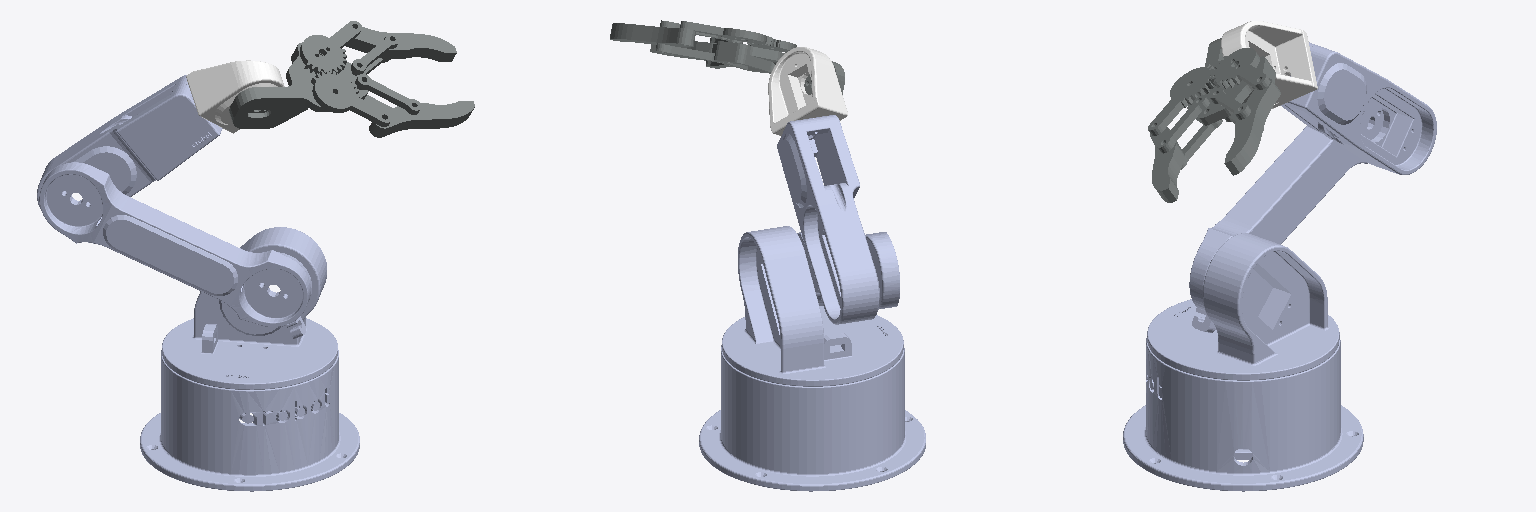
URDF robot description (Arobot_urdf):
<?xml version="1.0" encoding="utf-8"?>
<!-- This URDF was automatically created by SolidWorks to URDF Exporter! Originally created by [author] ([email redacted]) 
     Commit Version: 1.6.0-4-g7f85cfe  Build Version: 1.6.7995.38578
     For more information, please see http://wiki.ros.org/sw_urdf_exporter -->
<robot
  name="Arobot_urdf">
  <link
    name="base_link">
    <inertial>
      <origin
        xyz="-0.0199023809554258 -0.0173034470198268 -0.0157828643241678"
        rpy="0 0 0" />
      <mass
        value="0.0931216324961421" />
      <inertia
        ixx="0.000124567788543552"
        ixy="-4.16363683065978E-08"
        ixz="1.57671233689442E-06"
        iyy="0.000130557362004676"
        iyz="-5.17488311121036E-07"
        izz="0.000200546691587433" />
    </inertial>
    <visual>
      <origin
        xyz="0 0 0"
        rpy="0 0 0" />
      <geometry>
        <mesh
          filename="package://Arobot_urdf/meshes/base_link.STL" />
      </geometry>
      <material
        name="">
        <color
          rgba="0.792156862745098 0.819607843137255 0.933333333333333 1" />
      </material>
    </visual>
    <collision>
      <origin
        xyz="0 0 0"
        rpy="0 0 0" />
      <geometry>
        <mesh
          filename="package://Arobot_urdf/meshes/base_link.STL" />
      </geometry>
    </collision>
  </link>
  <link
    name="link2">
    <inertial>
      <origin
        xyz="-0.00759010509401916 0.0187700474297136 -0.00224361769178332"
        rpy="0 0 0" />
      <mass
        value="0.0722904552128266" />
      <inertia
        ixx="6.24391334188447E-05"
        ixy="6.73311035218301E-06"
        ixz="-1.54882255374558E-06"
        iyy="5.68904737632755E-05"
        iyz="6.39871996504846E-06"
        izz="4.95155659981253E-05" />
    </inertial>
    <visual>
      <origin
        xyz="0 0 0"
        rpy="0 0 0" />
      <geometry>
        <mesh
          filename="package://Arobot_urdf/meshes/link2.STL" />
      </geometry>
      <material
        name="">
        <color
          rgba="0.792156862745098 0.819607843137255 0.933333333333333 1" />
      </material>
    </visual>
    <collision>
      <origin
        xyz="0 0 0"
        rpy="0 0 0" />
      <geometry>
        <mesh
          filename="package://Arobot_urdf/meshes/link2.STL" />
      </geometry>
    </collision>
  </link>
  <joint
    name="q1"
    type="continuous">
    <origin
      xyz="-0.019548 -0.017657 0.017836"
      rpy="1.5708 0 -2.2679" />
    <parent
      link="base_link" />
    <child
      link="link2" />
    <axis
      xyz="0 1 0" />
  </joint>
  <link
    name="link3">
    <inertial>
      <origin
        xyz="-0.000125481736924962 0.0592846627417191 0.00553500191463586"
        rpy="0 0 0" />
      <mass
        value="0.0565100282891084" />
      <inertia
        ixx="9.41765026874136E-05"
        ixy="-8.20721870459865E-09"
        ixz="1.28018314590746E-09"
        iyy="7.27757393240956E-06"
        iyz="-4.69467678466537E-10"
        izz="9.69997633192886E-05" />
    </inertial>
    <visual>
      <origin
        xyz="0 0 0"
        rpy="0 0 0" />
      <geometry>
        <mesh
          filename="package://Arobot_urdf/meshes/link3.STL" />
      </geometry>
      <material
        name="">
        <color
          rgba="0.792156862745098 0.819607843137255 0.933333333333333 1" />
      </material>
    </visual>
    <collision>
      <origin
        xyz="0 0 0"
        rpy="0 0 0" />
      <geometry>
        <mesh
          filename="package://Arobot_urdf/meshes/link3.STL" />
      </geometry>
    </collision>
  </link>
  <joint
    name="q2"
    type="continuous">
    <origin
      xyz="0 0.040395 -0.013891"
      rpy="1.5708 0.40114 1.5708" />
    <parent
      link="link2" />
    <child
      link="link3" />
    <axis
      xyz="0 0 1" />
  </joint>
  <link
    name="link4">
    <inertial>
      <origin
        xyz="-3.6277018358899E-05 0.0380964871549582 0.0137277229044298"
        rpy="0 0 0" />
      <mass
        value="0.0569391358158971" />
      <inertia
        ixx="6.36145624374083E-05"
        ixy="1.05125829931984E-07"
        ixz="2.80380500493347E-09"
        iyy="1.10341366256809E-05"
        iyz="-9.26039997868699E-07"
        izz="6.71124501437227E-05" />
    </inertial>
    <visual>
      <origin
        xyz="0 0 0"
        rpy="0 0 0" />
      <geometry>
        <mesh
          filename="package://Arobot_urdf/meshes/link4.STL" />
      </geometry>
      <material
        name="">
        <color
          rgba="0.792156862745098 0.819607843137255 0.933333333333333 1" />
      </material>
    </visual>
    <collision>
      <origin
        xyz="0 0 0"
        rpy="0 0 0" />
      <geometry>
        <mesh
          filename="package://Arobot_urdf/meshes/link4.STL" />
      </geometry>
    </collision>
  </link>
  <joint
    name="q3"
    type="continuous">
    <origin
      xyz="0 0.12 0"
      rpy="3.1416 0 1.0827" />
    <parent
      link="link3" />
    <child
      link="link4" />
    <axis
      xyz="0 0 1" />
  </joint>
  <link
    name="link5">
    <inertial>
      <origin
        xyz="0.00505977747575377 0.0460989187782145 -0.00578515845698138"
        rpy="0 0 0" />
      <mass
        value="0.0181544008867874" />
      <inertia
        ixx="4.26004943647823E-06"
        ixy="1.45652003326134E-08"
        ixz="-3.10514612533292E-09"
        iyy="2.89016878074379E-06"
        iyz="6.02916017576858E-07"
        izz="5.35076227036813E-06" />
    </inertial>
    <visual>
      <origin
        xyz="0 0 0"
        rpy="0 0 0" />
      <geometry>
        <mesh
          filename="package://Arobot_urdf/meshes/link5.STL" />
      </geometry>
      <material
        name="">
        <color
          rgba="1 1 1 1" />
      </material>
    </visual>
    <collision>
      <origin
        xyz="0 0 0"
        rpy="0 0 0" />
      <geometry>
        <mesh
          filename="package://Arobot_urdf/meshes/link5.STL" />
      </geometry>
    </collision>
  </link>
  <joint
    name="q4"
    type="continuous">
    <origin
      xyz="-0.0051 0.063767 0.013449"
      rpy="0 0.69041 0" />
    <parent
      link="link4" />
    <child
      link="link5" />
    <axis
      xyz="0 1 0" />
  </joint>
  <link
    name="endEffector">
    <inertial>
      <origin
        xyz="0.0108354269744141 0.00851935483238395 -0.0520705736467652"
        rpy="0 0 0" />
      <mass
        value="0.0349188614782314" />
      <inertia
        ixx="1.28546999424825E-05"
        ixy="-8.63249361863202E-07"
        ixz="1.1128235896358E-06"
        iyy="9.08221478082389E-06"
        iyz="3.86983955907995E-06"
        izz="5.61702189618018E-06" />
    </inertial>
    <visual>
      <origin
        xyz="0 0 0"
        rpy="0 0 0" />
      <geometry>
        <mesh
          filename="package://Arobot_urdf/meshes/endEffector.STL" />
      </geometry>
      <material
        name="">
        <color
          rgba="0.529411764705882 0.549019607843137 0.549019607843137 1" />
      </material>
    </visual>
    <collision>
      <origin
        xyz="0 0 0"
        rpy="0 0 0" />
      <geometry>
        <mesh
          filename="package://Arobot_urdf/meshes/endEffector.STL" />
      </geometry>
    </collision>
  </link>
  <joint
    name="q5"
    type="continuous">
    <origin
      xyz="0.005 0.055833 0"
      rpy="1.1624 0 1.0155" />
    <parent
      link="link5" />
    <child
      link="endEffector" />
    <axis
      xyz="0 0.91776 0.39713" />
  </joint>
</robot>

--- What the picture shows (computed from the rendered views, not written in the file) ---
The picture shows the robot from 3 angles, left to right: view 1: azimuth 30°, elevation 25°; view 2: azimuth 150°, elevation 25°; view 3: azimuth 270°, elevation 25°; orthographic projection.
Model Arobot_urdf with 6 links and 5 joints (5 continuous), rooted at base_link, posed all joints at 0.
Links seen in each view (by area): view 1: base_link, link3, endEffector, link2, link4, link5; view 2: base_link, link2, link4, endEffector, link5, link3; view 3: base_link, link2, endEffector, link4, link3, link5.
Link boxes in pixels (x1,y1,x2,y2): base_link: (140, 350, 359, 491); link3: (39, 162, 310, 338); endEffector: (229, 21, 474, 137); link2: (162, 227, 337, 389); link4: (37, 75, 222, 208); link5: (186, 60, 284, 133); base_link: (699, 345, 925, 491); link2: (722, 226, 903, 386); link4: (777, 115, 879, 324); endEffector: (610, 20, 844, 94); link5: (768, 47, 847, 135); link3: (797, 232, 899, 309); base_link: (1123, 338, 1363, 491); link2: (1147, 233, 1339, 380); endEffector: (1148, 38, 1280, 202); link4: (1281, 42, 1436, 174); link3: (1189, 109, 1383, 332); link5: (1221, 21, 1317, 108).
Size in the robot's own frame: 0.2208 by 0.1582 by 0.2366 metres.
6 mesh visuals loaded from 6 distinct referenced files (6 binary STL).